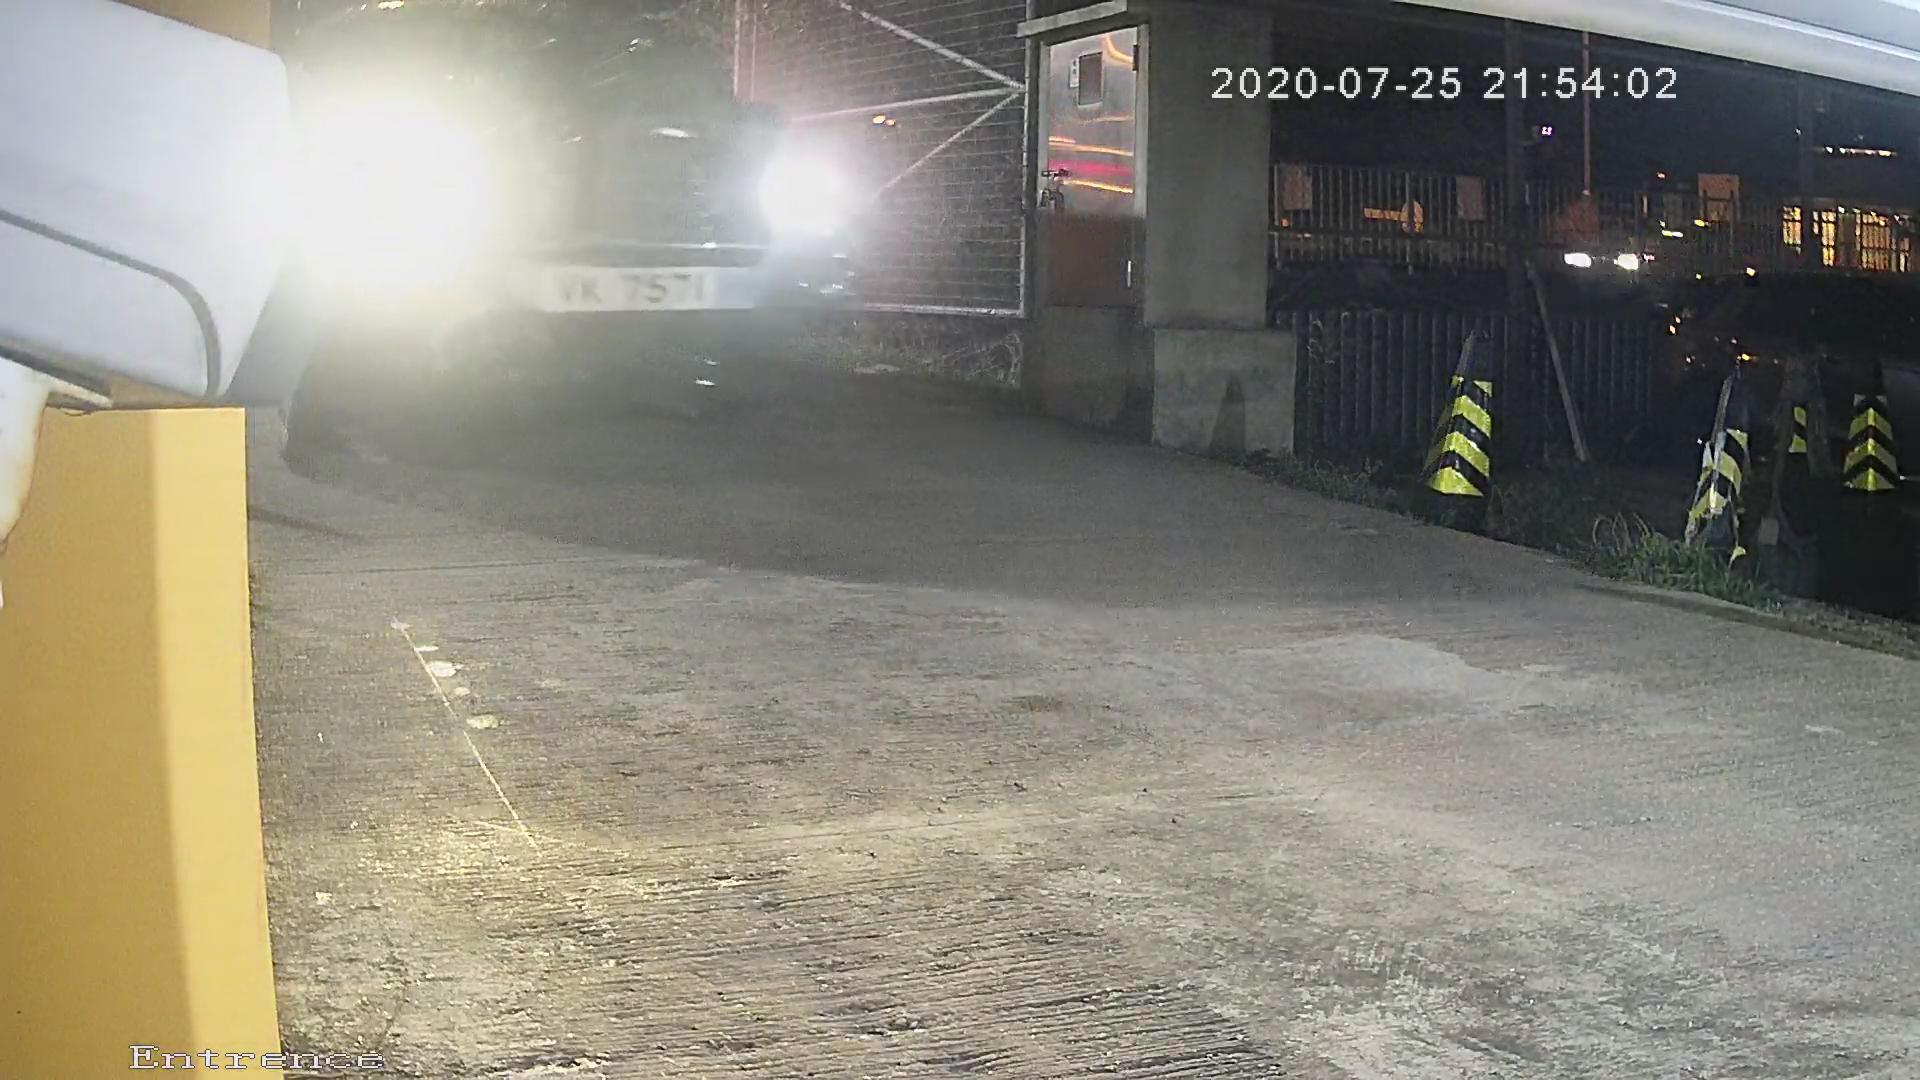privatecar: (156, 25, 841, 506)
